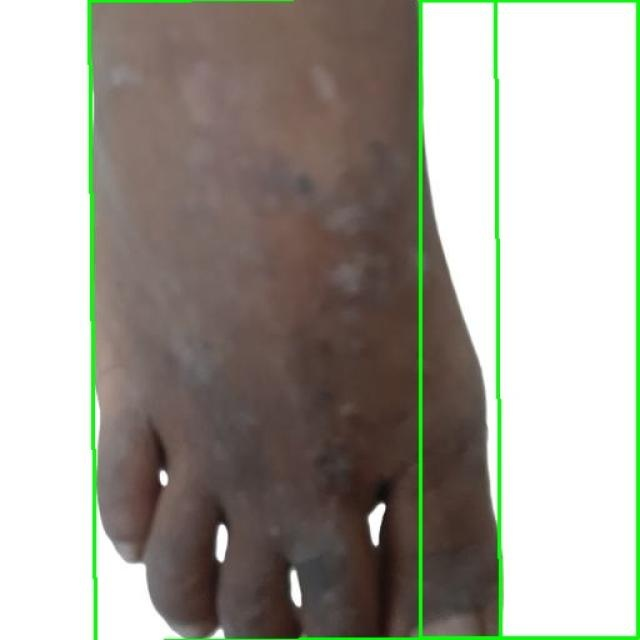Contact Dermatitis: (90, 0, 501, 640), (421, 0, 639, 639)
